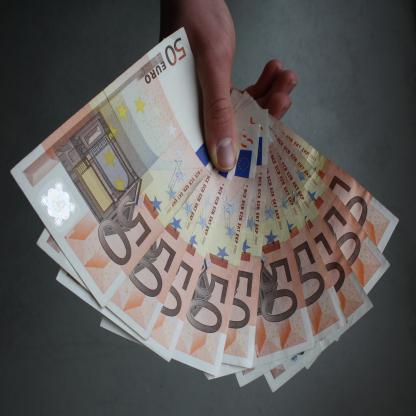billete: (7, 25, 400, 394)
